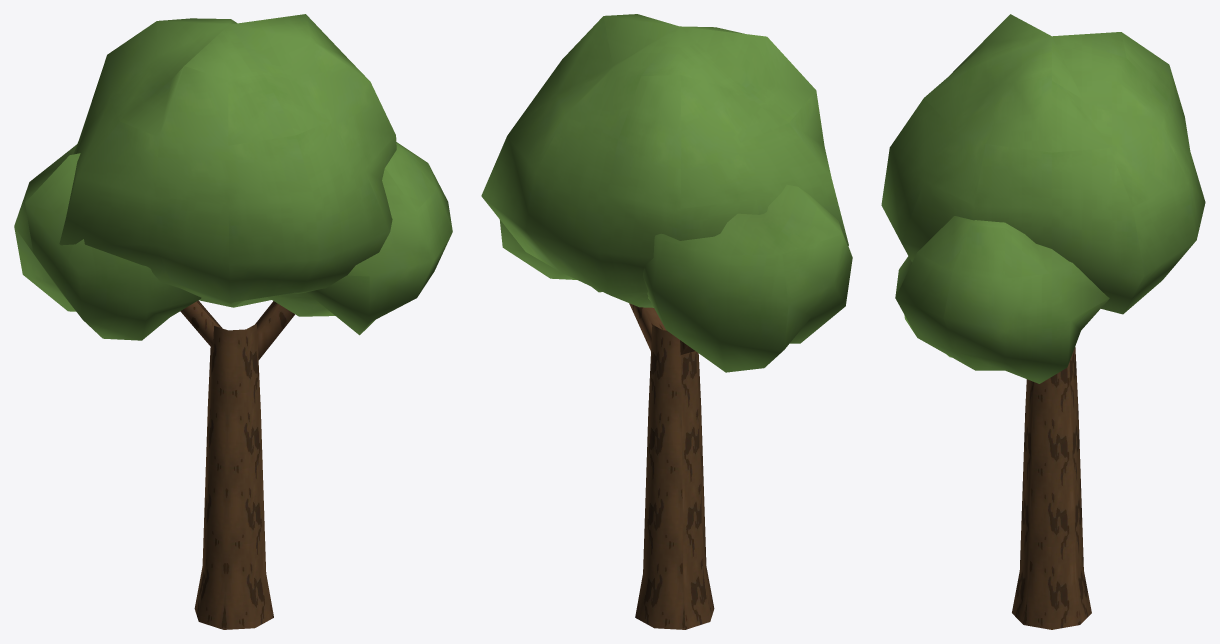
File: tree.oak.glb
3 views of the same model, side by side, from view 1: azimuth 30°, elevation 25°; view 2: azimuth 150°, elevation 25°; view 3: azimuth 270°, elevation 25° (orthographic). The views are drawn at different scales.
Parts seen in each view (by area): view 1: crown, scenery.tree.oak.mesh; view 2: crown, scenery.tree.oak.mesh; view 3: crown, scenery.tree.oak.mesh.
Part boxes in pixels (<box>): crown: <box>14,14,452,340</box>; scenery.tree.oak.mesh: <box>180,300,294,629</box>; crown: <box>481,14,852,372</box>; scenery.tree.oak.mesh: <box>629,303,714,629</box>; crown: <box>881,14,1205,383</box>; scenery.tree.oak.mesh: <box>1012,347,1091,629</box>.
Bounding box in the file's own units: 3.19 × 4.74 × 2.43.
Materials: 2 (2 with a texture image).
